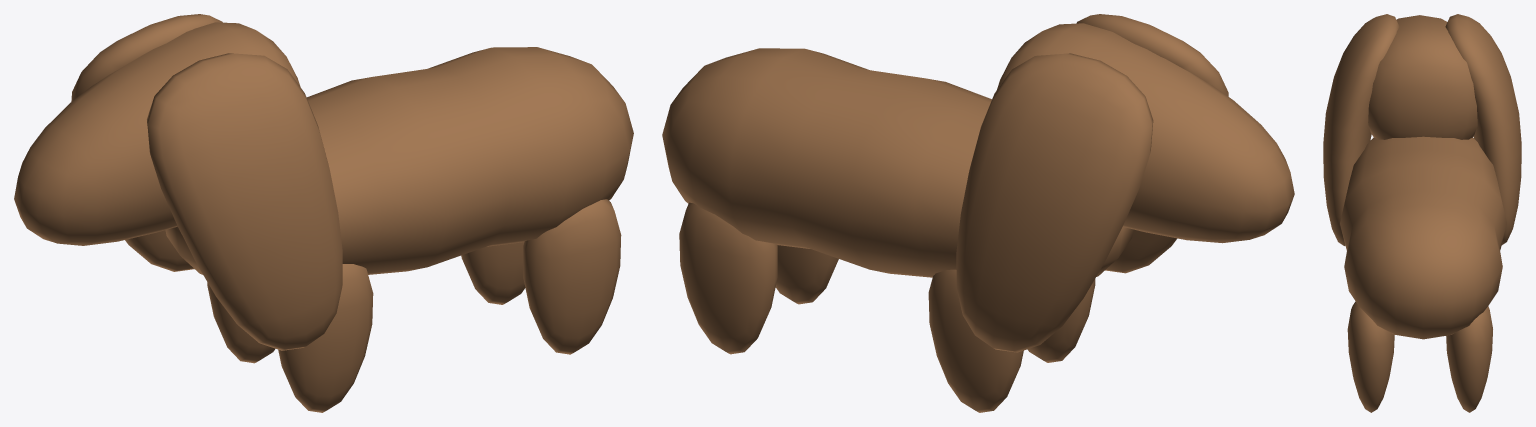
The model's file is mdl_giftDog.fbx.
3 views of the same model, side by side, from view 1: azimuth 30°, elevation 25°; view 2: azimuth 150°, elevation 25°; view 3: azimuth 270°, elevation 25° (orthographic). The views are drawn at different scales.
Visible parts, largest first — view 1: mdl_giftDog; view 2: mdl_giftDog; view 3: mdl_giftDog.
Part boxes in pixels (bbox=[...]): mdl_giftDog: bbox=[14, 14, 633, 412]; mdl_giftDog: bbox=[662, 14, 1294, 412]; mdl_giftDog: bbox=[1323, 14, 1521, 412].
Bounding box in the file's own units: 1.22 × 0.7138 × 0.4771.
